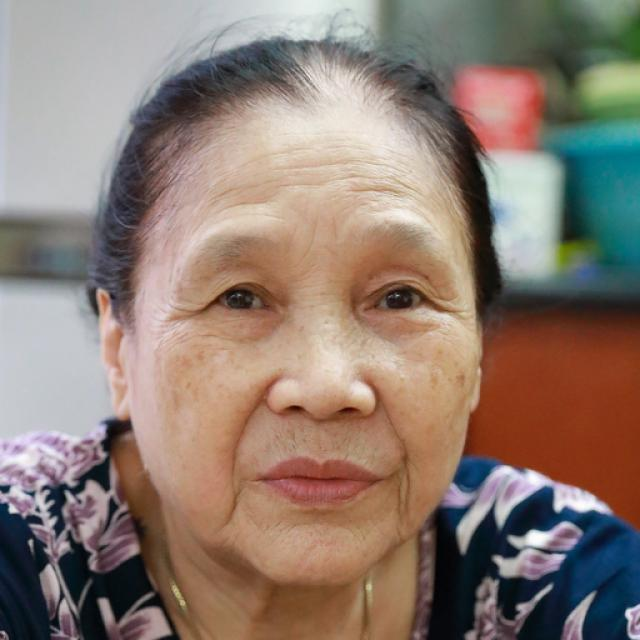Wrinkle: (229, 379, 272, 505), (281, 171, 428, 200), (233, 144, 373, 171), (279, 155, 416, 180), (387, 395, 415, 517), (210, 194, 270, 220), (347, 183, 403, 195)
